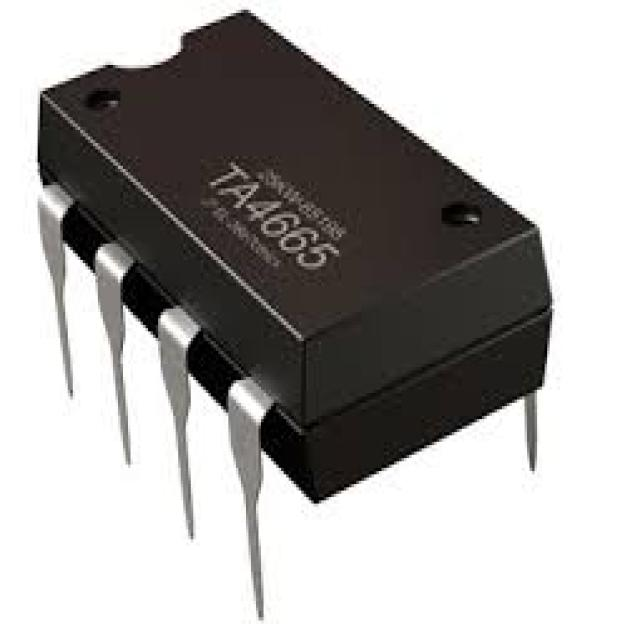IC chip: (40, 13, 552, 504)
